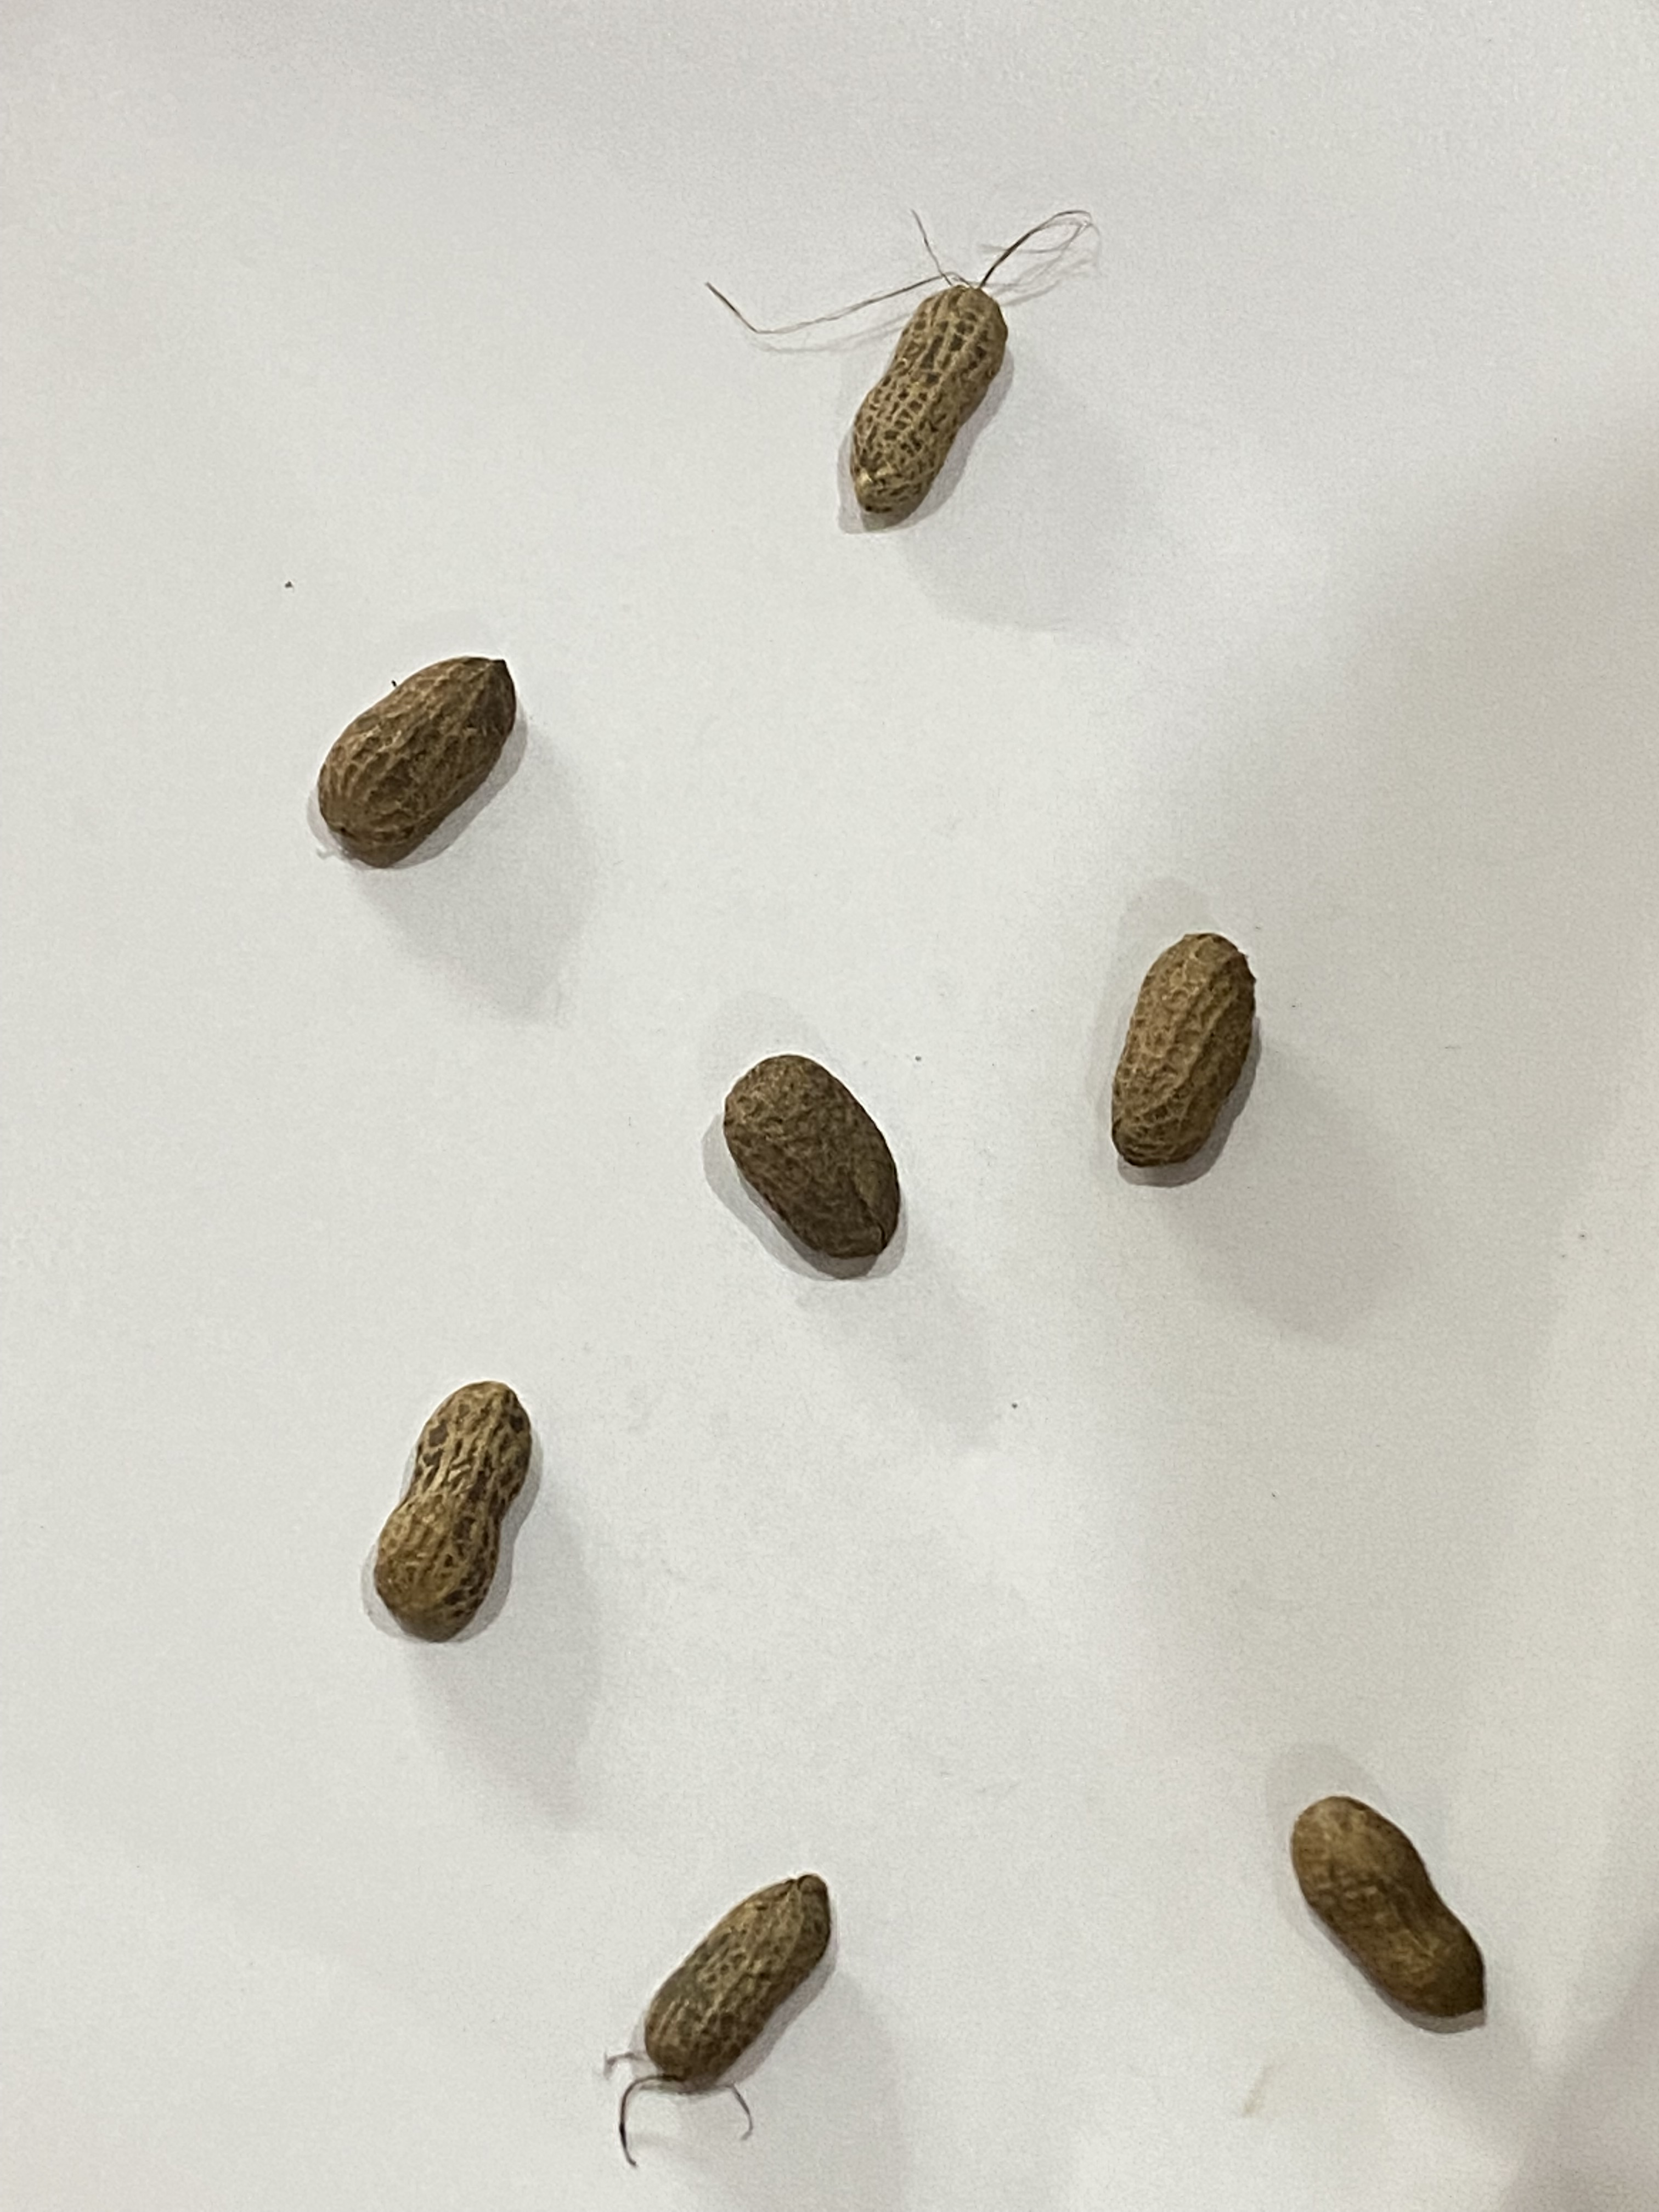kacang1: (704, 1042, 951, 1273)
kacang2: (636, 1829, 864, 2125), (289, 653, 538, 873), (1093, 911, 1283, 1195), (1284, 1792, 1509, 2027), (371, 1364, 547, 1655), (824, 272, 1021, 519)
